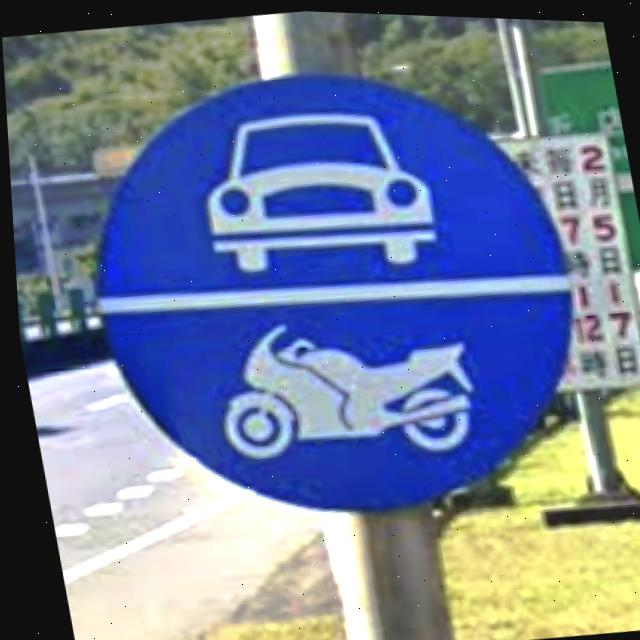carmotorcycle: (95, 74, 565, 506)
